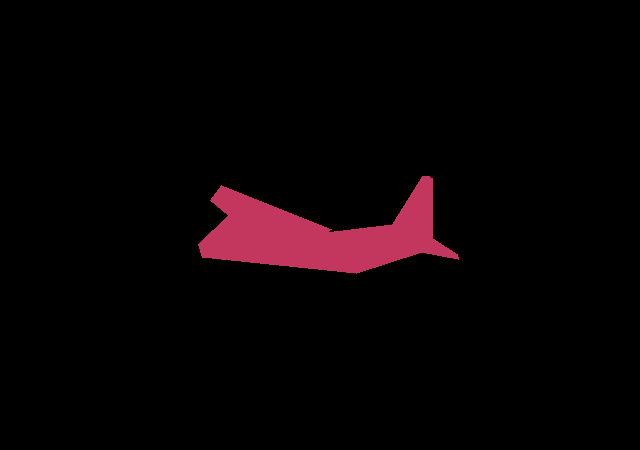Airplane: (198, 176, 458, 273)
